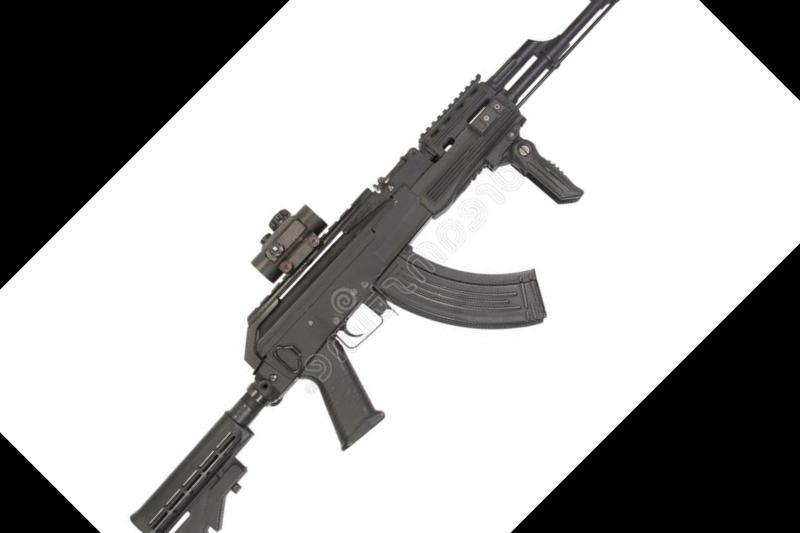larga: (129, 1, 621, 533)
